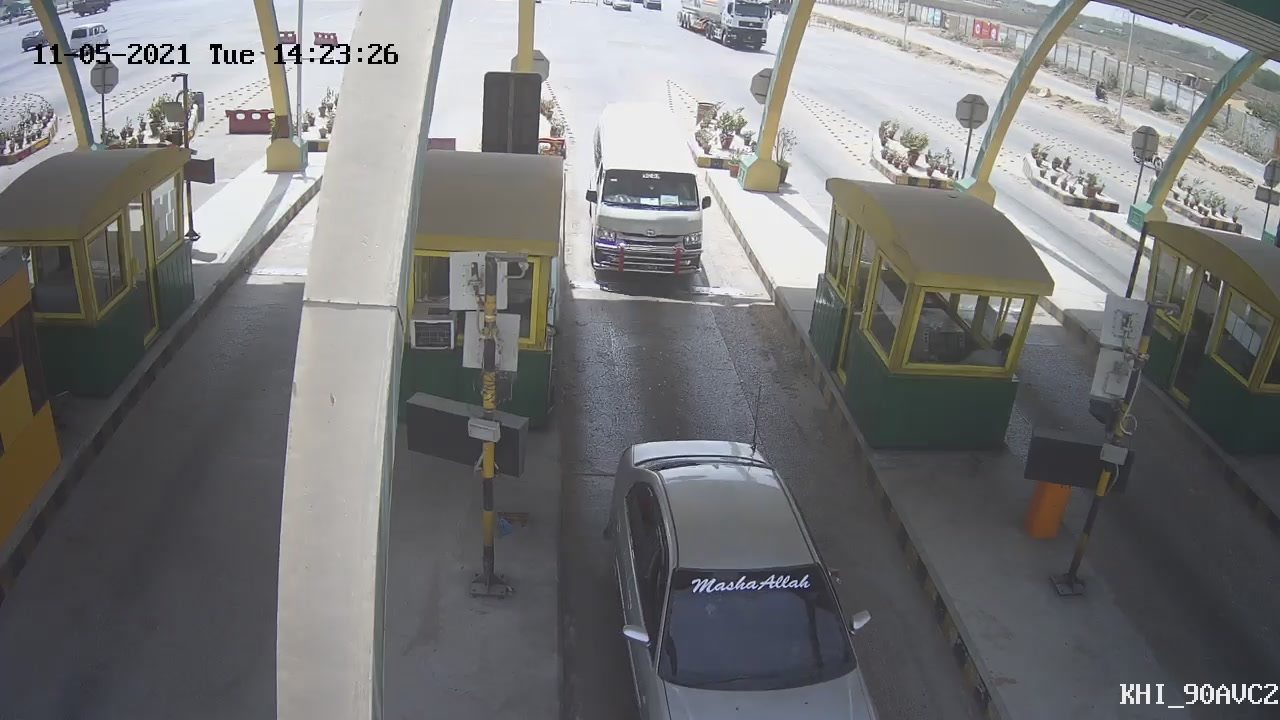F2: (585, 100, 727, 311)
